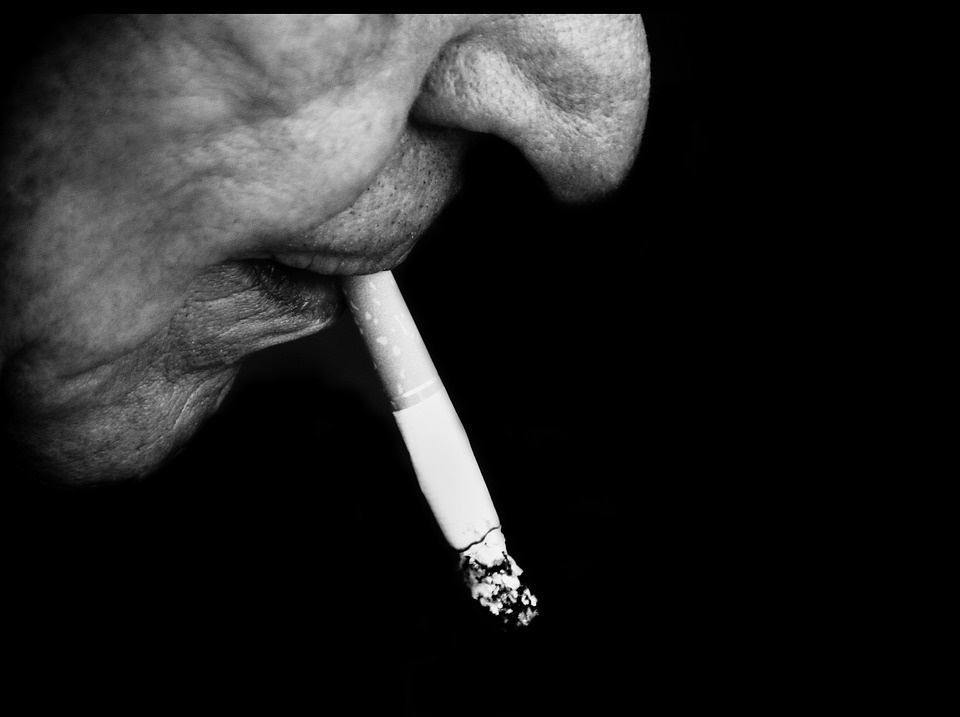sigaretta: (337, 249, 541, 639)
